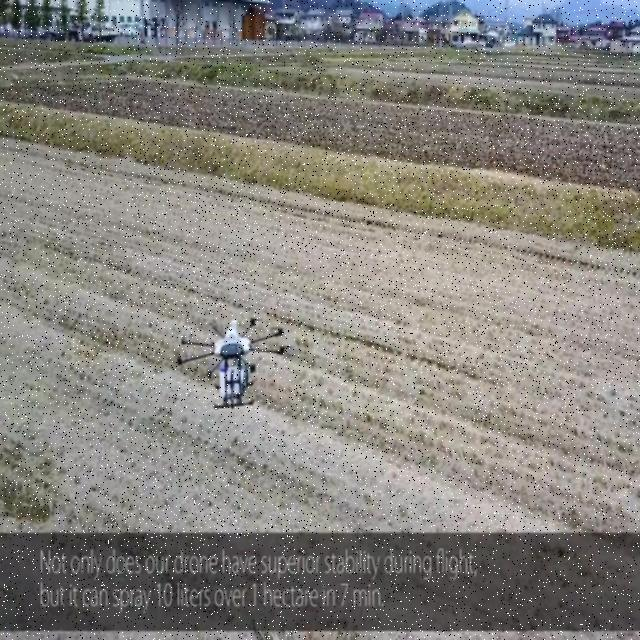UAV: (177, 317, 285, 410)
